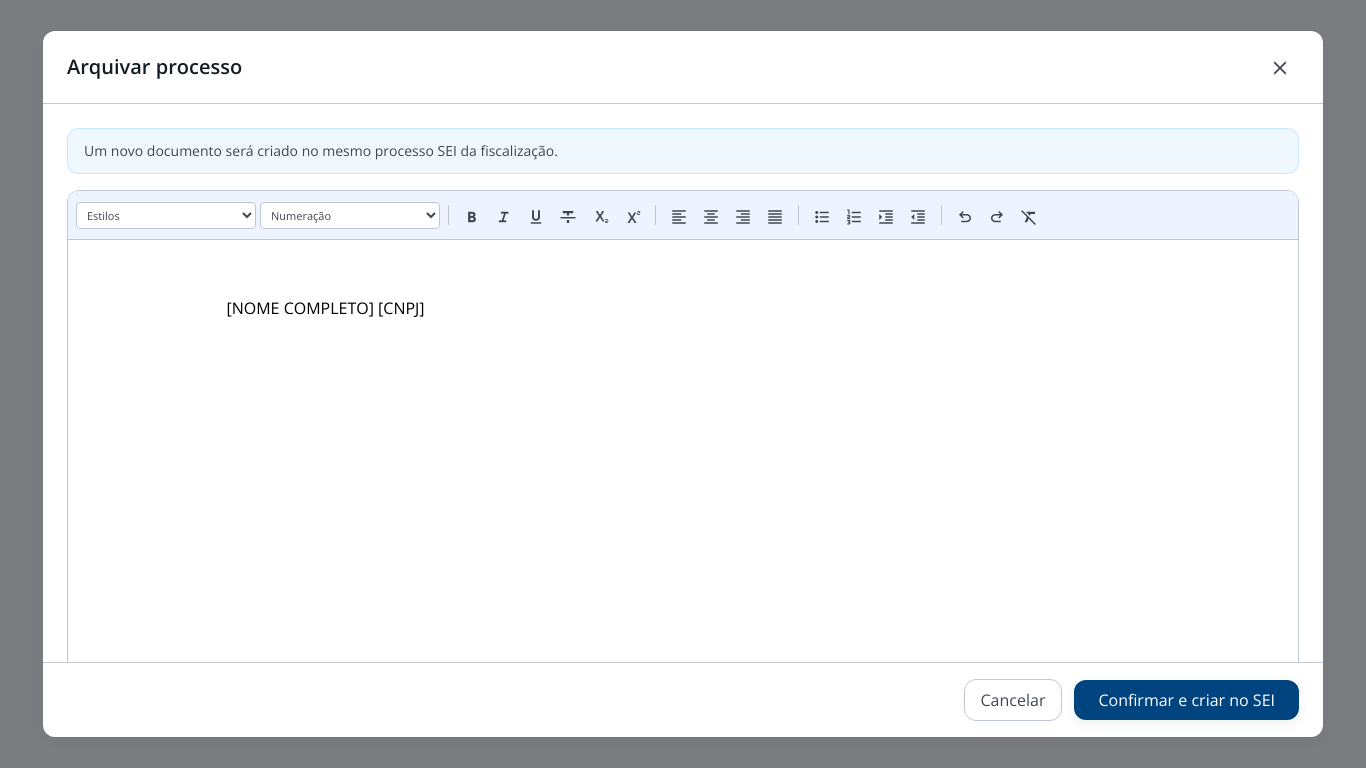
it: DespachoModal - tratamento de erros da API SEI › bloqueia o botão Confirmar e alerta sobre duplicidade quando um processo já foi criado
Expected: the text box named "Editor do documento" is shown, 68,240 -> 1298,662
Click the button "Confirmar e criar no SEI" at (1187, 700), box 1074,680 -> 1299,720
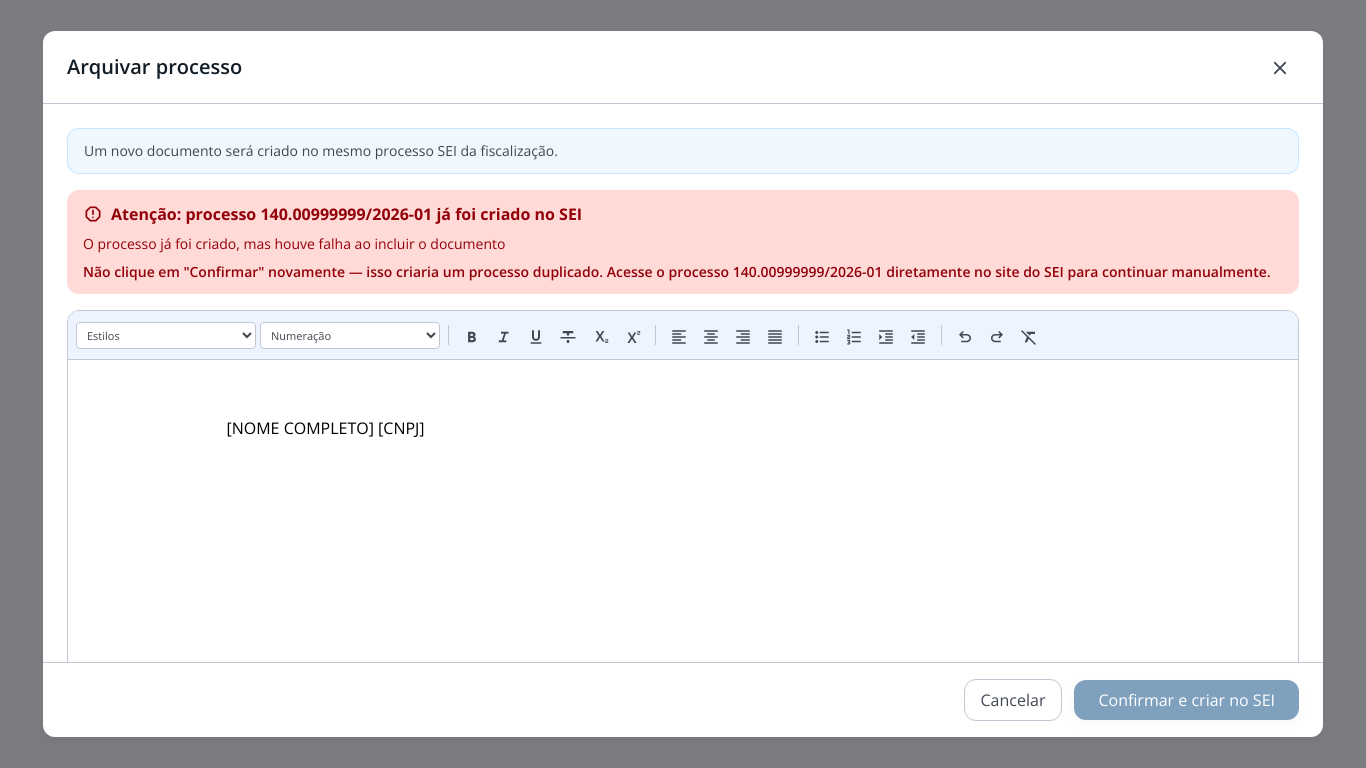
Expected: the text "Atenção: processo 140.00999999/2026-01 já foi criado no SEI" is shown, 83,202 -> 582,226
Expected: the text "Não clique em \"Confirmar\" novamente" is shown, 83,262 -> 733,281
Expected: the button "Confirmar e criar no SEI" is disabled, 1074,680 -> 1299,720
